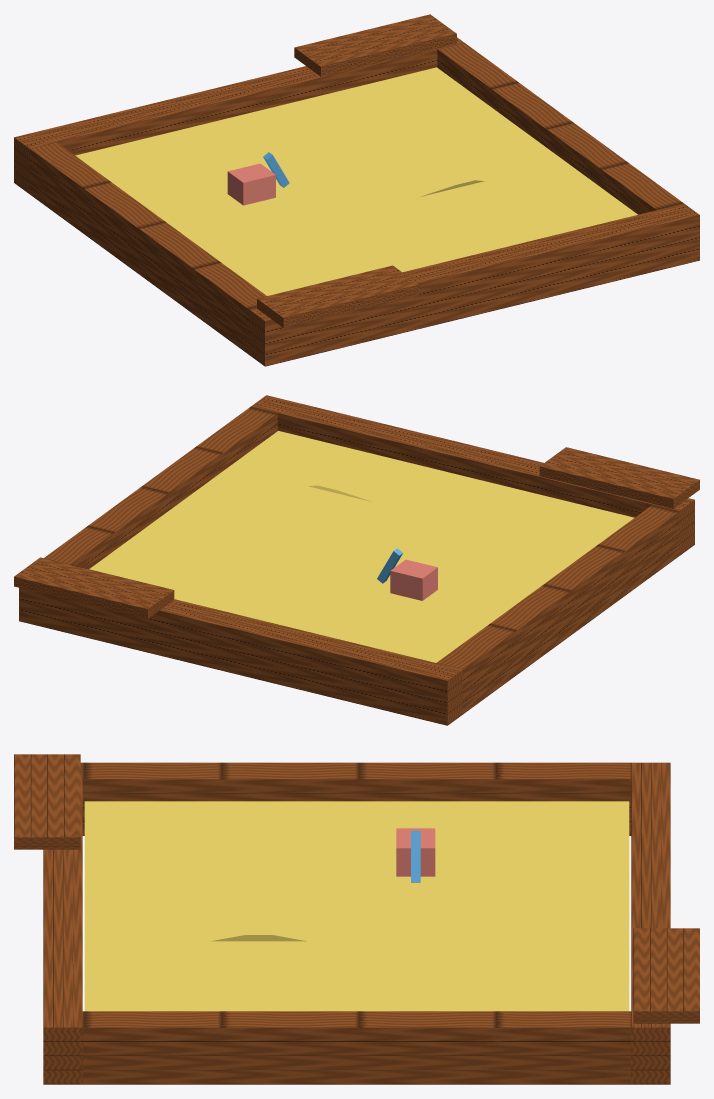
File: 33660-Sandpit-with-Timber-Edging-City-Park-and-Playground.glb
3 renders of one model, top to bottom at view 1: azimuth 30°, elevation 25°; view 2: azimuth 150°, elevation 25°; view 3: azimuth 270°, elevation 25°, orthographic. The views are drawn at different scales.
Parts seen in each view (by area): view 1: sandpit-with-edging-timber, sandpit-with-edging-sunflower, sandpit-with-edging-poppy; view 2: sandpit-with-edging-timber, sandpit-with-edging-sunflower, sandpit-with-edging-poppy; view 3: sandpit-with-edging-sunflower, sandpit-with-edging-timber, sandpit-with-edging-poppy, sandpit-with-edging-azure.
Boxes of the visible parts, <box> form: sandpit-with-edging-timber: <box>14,14,699,366</box>; sandpit-with-edging-sunflower: <box>75,67,637,295</box>; sandpit-with-edging-poppy: <box>227,163,275,205</box>; sandpit-with-edging-timber: <box>14,395,699,725</box>; sandpit-with-edging-sunflower: <box>89,431,634,662</box>; sandpit-with-edging-poppy: <box>390,559,437,600</box>; sandpit-with-edging-sunflower: <box>84,801,629,1011</box>; sandpit-with-edging-timber: <box>14,754,699,1084</box>; sandpit-with-edging-poppy: <box>396,828,435,876</box>; sandpit-with-edging-azure: <box>411,831,420,882</box>.
Bounding box in the file's own units: 3.2 × 0.4661 × 3.5.
Materials: 4 (1 with a texture image).
